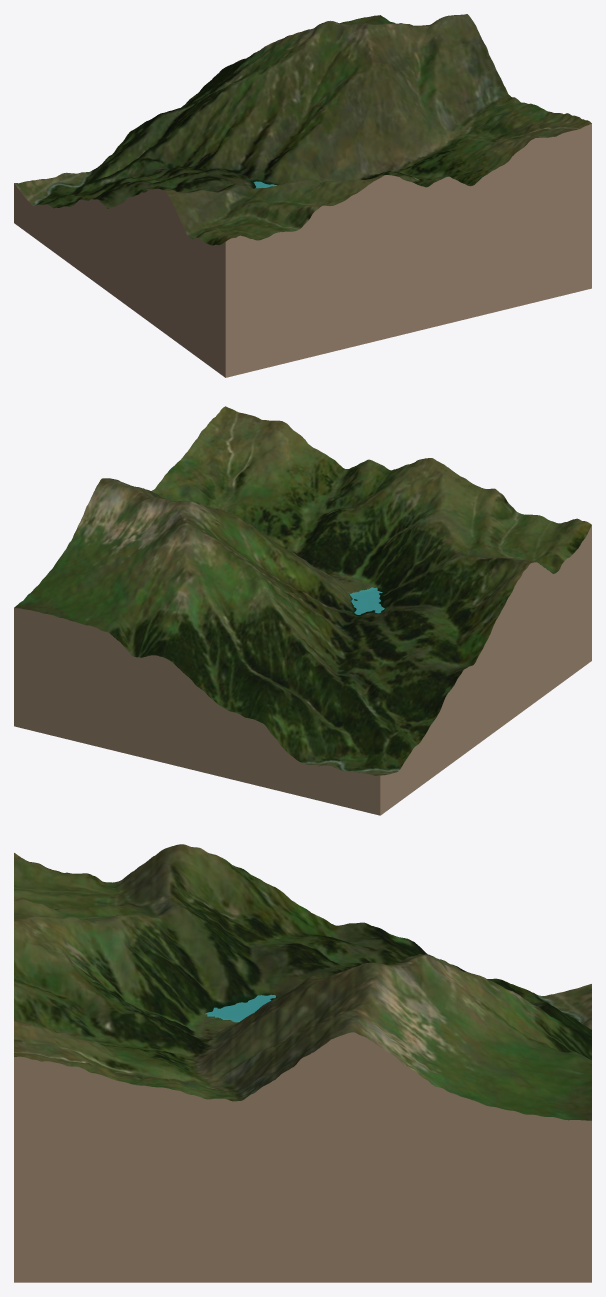
Rendered from kol-kogur.glb.
3 renders of one model, top to bottom at view 1: azimuth 30°, elevation 25°; view 2: azimuth 150°, elevation 25°; view 3: azimuth 270°, elevation 25°, orthographic. The views are drawn at different scales.
Parts seen in each view (by area): view 1: Бока, Рельеф; view 2: Рельеф, Бока, Вода; view 3: Бока, Рельеф, Вода.
Part boxes in pixels (box(x1,y1,x2,y2)): Бока: box(14, 123, 591, 377); Рельеф: box(14, 14, 591, 245); Рельеф: box(14, 406, 591, 775); Бока: box(14, 525, 591, 815); Вода: box(350, 587, 384, 614); Бока: box(14, 1032, 591, 1282); Рельеф: box(14, 844, 591, 1120); Вода: box(205, 994, 275, 1022).
Bounding box in the file's own units: 4000 × 1971 × 4000.
3 materials, 1 textured.
